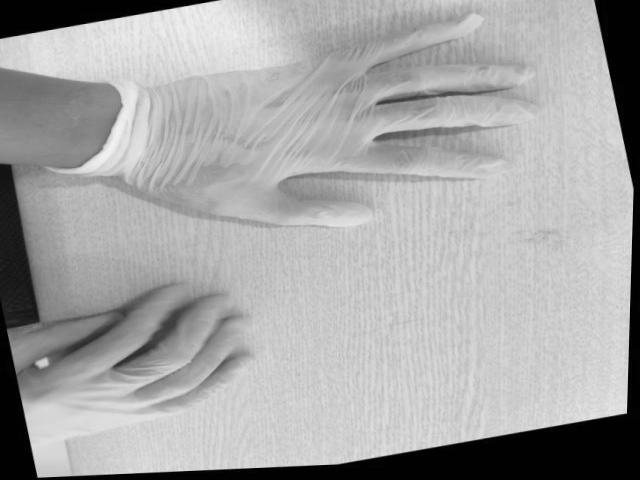gloved: (162, 25, 519, 227), (11, 292, 260, 439)
